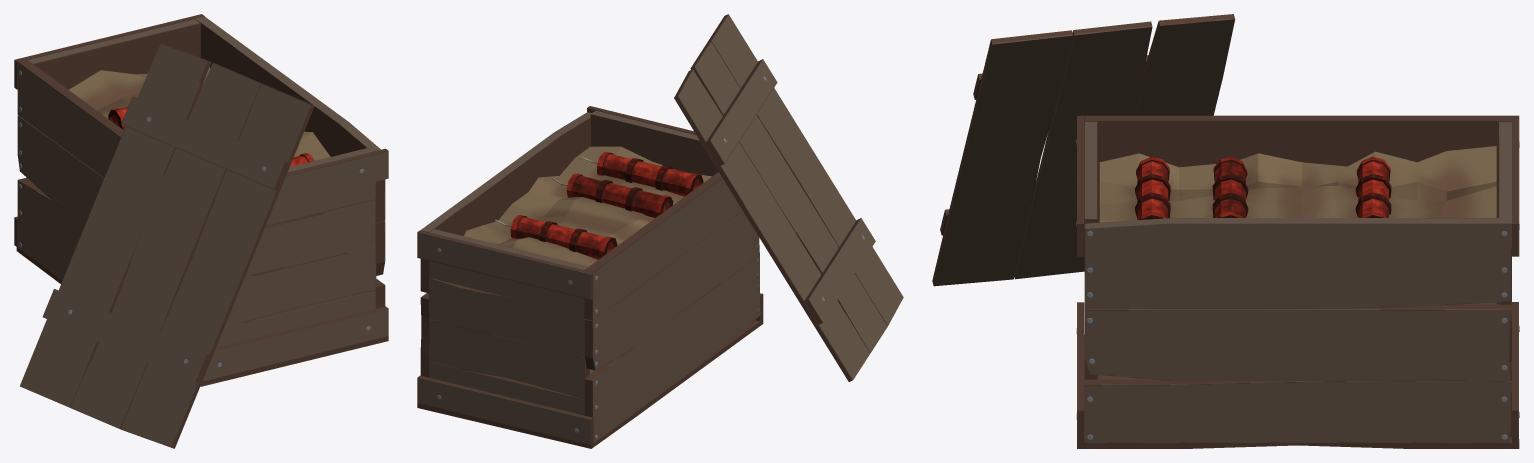
File: Crate_LidPropped_TNTUsed.fbx
3 views of the same model, side by side, from view 1: azimuth 30°, elevation 25°; view 2: azimuth 150°, elevation 25°; view 3: azimuth 270°, elevation 25° (orthographic). The views are drawn at different scales.
Parts seen in each view (by area): view 1: Lid, Side_02.002, Side_03.002, Side_01.002, Side_04.002, Hay.002, Crate.002; view 2: Lid, Side_04.002, Side_03.002, Hay.002, Side_01.002, Side_02.002, polySurface18.010, polySurface18.009, polySurface18.008, Crate.002; view 3: Side_01.002, Lid, Hay.002, Side_03.002, Side_02.002, Side_04.002, Crate.002, polySurface18.010, polySurface18.009, polySurface18.008.
Part boxes in pixels (x1,y1,x2,y2): Lid: (20, 43, 314, 448); Side_02.002: (202, 147, 388, 381); Side_03.002: (17, 59, 123, 279); Side_01.002: (195, 16, 385, 308); Side_04.002: (14, 14, 204, 247); Hay.002: (69, 67, 330, 160); Crate.002: (16, 247, 388, 386); Lid: (674, 14, 903, 381); Side_04.002: (417, 229, 593, 445); Side_03.002: (584, 172, 759, 442); Hay.002: (464, 146, 711, 373); Side_01.002: (420, 112, 591, 377); Side_02.002: (587, 106, 763, 321); polySurface18.010: (581, 151, 703, 196); polySurface18.009: (552, 173, 673, 218); polySurface18.008: (495, 215, 617, 259); Crate.002: (417, 320, 763, 448); Side_01.002: (1084, 218, 1511, 442); Lid: (932, 14, 1235, 286); Hay.002: (1099, 146, 1496, 379); Side_03.002: (1084, 115, 1511, 304); Side_02.002: (1076, 115, 1097, 442); Side_04.002: (1499, 115, 1519, 442); Crate.002: (1077, 335, 1519, 448); polySurface18.010: (1135, 156, 1170, 219); polySurface18.009: (1212, 156, 1248, 217); polySurface18.008: (1355, 156, 1391, 217).
Bounding box in the file's own units: 125 × 106 × 164.
